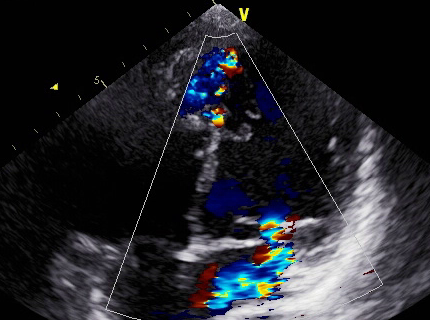MR: (212, 215, 317, 275)
